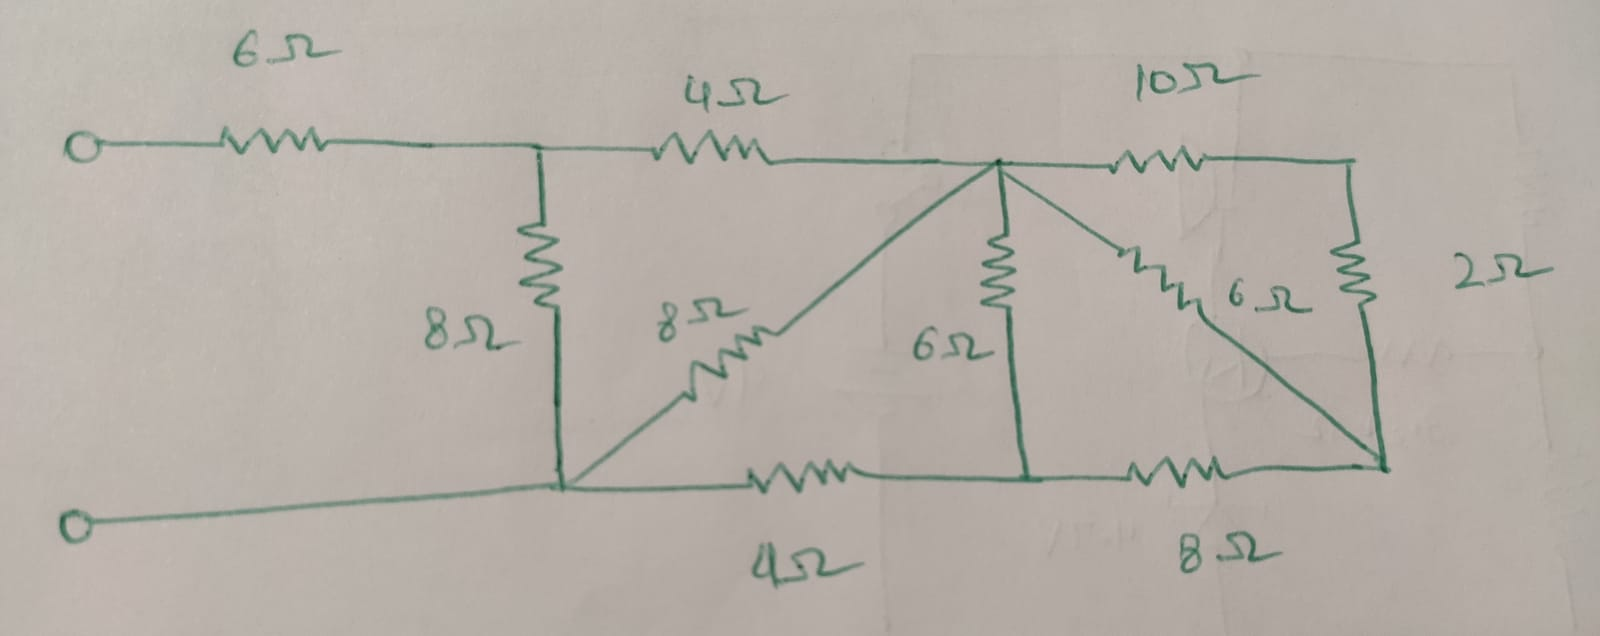junction: (977, 142, 1019, 184), (1001, 462, 1050, 492), (520, 131, 556, 168), (546, 466, 584, 501), (1374, 456, 1397, 482), (1336, 152, 1361, 173)
resistor: (1112, 241, 1208, 322), (686, 324, 781, 401), (515, 213, 568, 314), (741, 454, 862, 495), (645, 129, 776, 165), (977, 223, 1020, 317), (1124, 452, 1230, 491), (211, 123, 326, 156), (1329, 235, 1378, 310), (1113, 143, 1212, 179)
terminal: (57, 126, 108, 166), (56, 505, 102, 543)
text: (750, 535, 868, 590), (1176, 523, 1287, 574), (419, 302, 527, 353), (231, 25, 347, 69), (655, 290, 752, 342), (1450, 247, 1558, 293), (681, 68, 791, 112), (1226, 274, 1318, 319), (1131, 57, 1234, 96), (912, 325, 999, 363)
